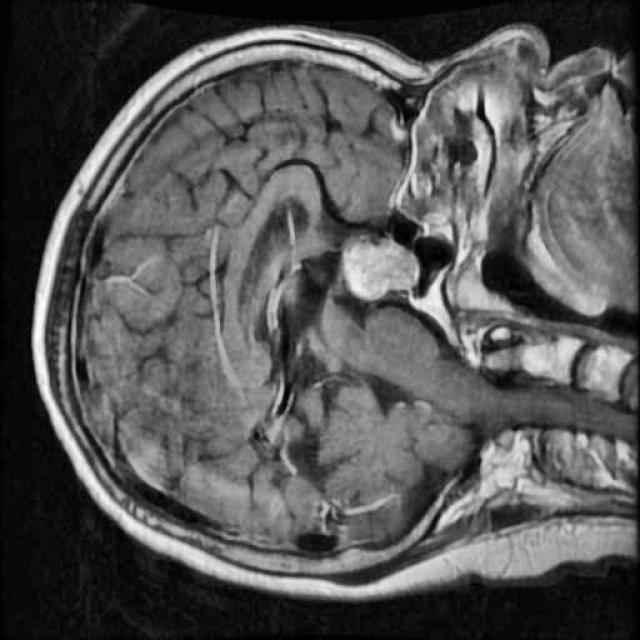Tumor: (324, 231, 435, 308)
